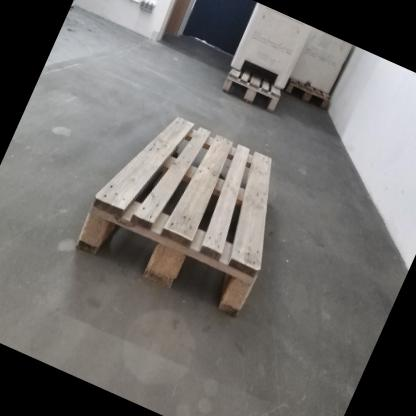BoxFace: (71, 114, 276, 326), (219, 68, 284, 118), (285, 73, 333, 115)
